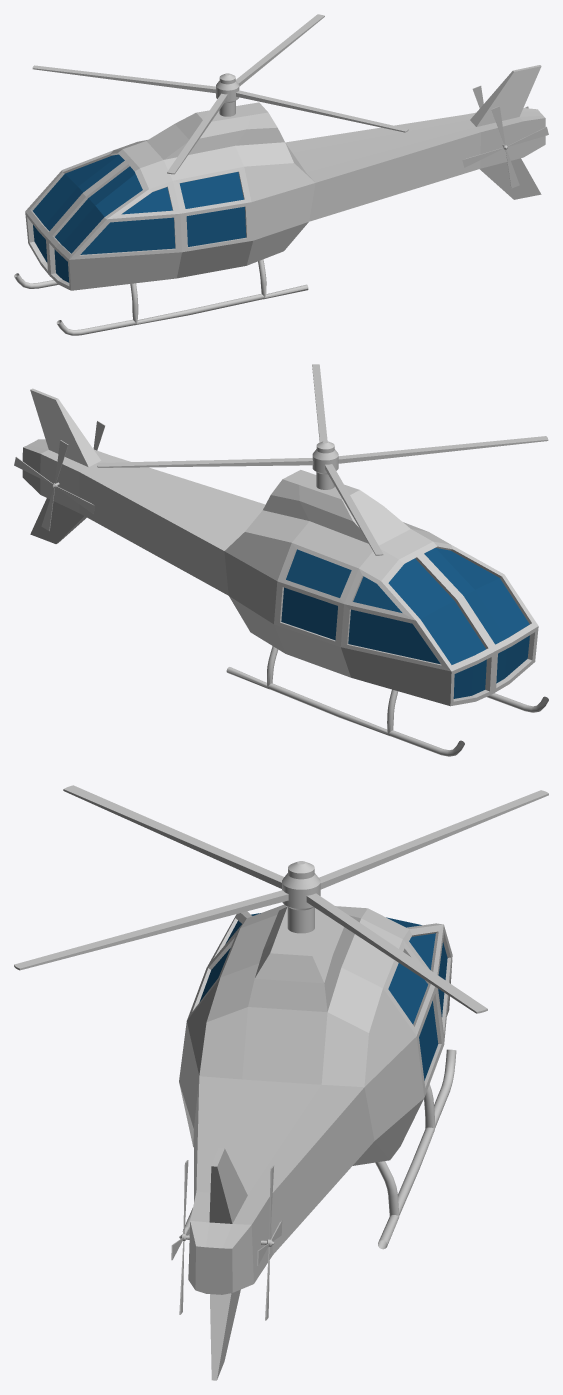
Rendered from helicopter_animation_000232.obj.
3 views of the same model, one above another, from view 1: azimuth 30°, elevation 25°; view 2: azimuth 150°, elevation 25°; view 3: azimuth 270°, elevation 25° (orthographic). The views are drawn at different scales.
Parts seen in each view (by area): view 1: Helicopter.007_Cylinder.008, Helicopter.001_Cylinder.001, Helicopter.003_Cylinder.004; view 2: Helicopter.007_Cylinder.008, Helicopter.001_Cylinder.001, Helicopter.004_Cylinder.005; view 3: Helicopter.007_Cylinder.008, Helicopter.001_Cylinder.001, Helicopter.004_Cylinder.005.
Boxes of the visible parts, x1,y1,x2,y2 form: Helicopter.007_Cylinder.008: (14,65,545,335); Helicopter.001_Cylinder.001: (32,14,408,174); Helicopter.003_Cylinder.004: (462,106,548,188); Helicopter.007_Cylinder.008: (22,388,548,756); Helicopter.001_Cylinder.001: (97,364,548,555); Helicopter.004_Cylinder.005: (14,440,95,531); Helicopter.007_Cylinder.008: (179,904,456,1380); Helicopter.001_Cylinder.001: (14,785,548,1013); Helicopter.004_Cylinder.005: (257,1165,282,1320).
Bounding box in the file's own units: 7.55 × 3.2 × 4.43.
